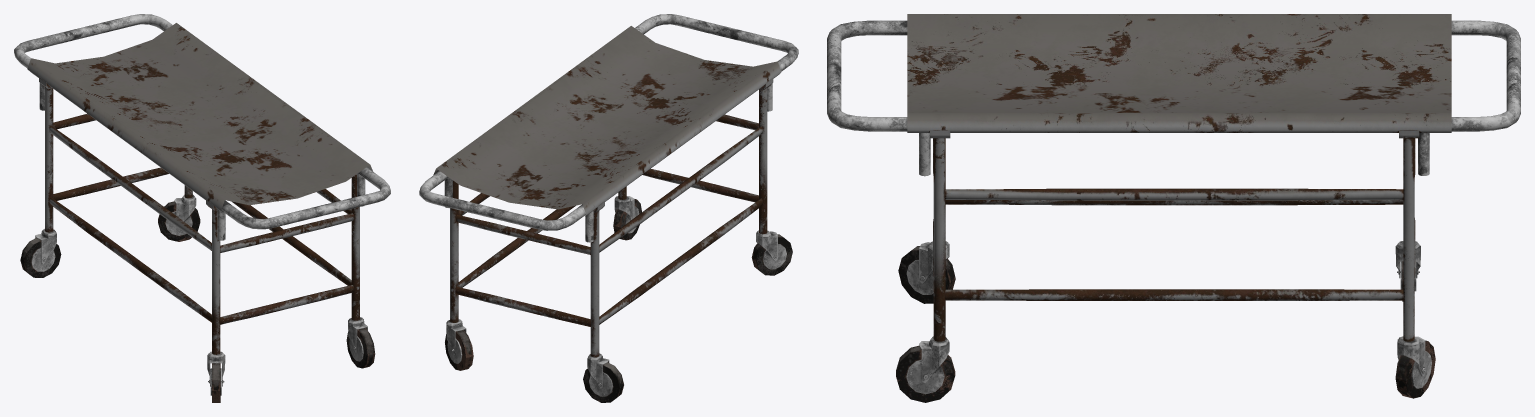
Rendered from uploads_files_4296316_Strecher_LP_With_Tex.fbx.
The picture shows the model from 3 angles, left to right: view 1: azimuth 30°, elevation 25°; view 2: azimuth 150°, elevation 25°; view 3: azimuth 270°, elevation 25°; orthographic projection. The views are drawn at different scales.
Visible parts, largest first — view 1: polySurface132, polySurface112, polySurface87, polySurface113, polySurface95, polySurface124, polySurface104, polySurface127, polySurface110, polySurface123, polySurface88, polySurface133 (+7 smaller); view 2: polySurface132, polySurface112, polySurface87, polySurface113, polySurface95, polySurface127, polySurface115, polySurface88, polySurface103, polySurface104, polySurface123, polySurface133 (+8 smaller); view 3: polySurface132, polySurface112, polySurface91, polySurface123, polySurface110, polySurface87, polySurface103, polySurface120, polySurface94, polySurface99, polySurface97, polySurface134.
Part boxes in pixels (box(x1,y1,x2,y2)): polySurface132: box(27, 23, 372, 212); polySurface112: box(14, 14, 390, 229); polySurface87: box(49, 197, 211, 322); polySurface113: box(49, 125, 211, 250); polySurface95: box(45, 87, 53, 232); polySurface124: box(220, 213, 354, 252); polySurface104: box(220, 285, 354, 324); polySurface127: box(212, 209, 220, 354); polySurface110: box(351, 176, 359, 320); polySurface123: box(232, 201, 351, 285); polySurface88: box(53, 167, 168, 200); polySurface133: box(20, 238, 61, 277); polySurface132: box(433, 26, 781, 216); polySurface112: box(419, 14, 798, 230); polySurface87: box(599, 198, 762, 324); polySurface113: box(599, 126, 762, 252); polySurface95: box(590, 211, 599, 357); polySurface127: box(759, 88, 767, 234); polySurface115: box(456, 214, 590, 254); polySurface88: box(456, 287, 590, 326); polySurface103: box(450, 180, 458, 322); polySurface104: box(642, 169, 758, 202); polySurface123: box(458, 205, 575, 287); polySurface133: box(583, 362, 623, 402); polySurface132: box(907, 14, 1451, 132); polySurface112: box(827, 20, 1520, 131); polySurface91: box(945, 188, 1403, 200); polySurface123: box(945, 289, 1403, 300); polySurface110: box(933, 138, 945, 341); polySurface87: box(945, 200, 1403, 205); polySurface103: box(1403, 138, 1414, 341); polySurface120: box(896, 345, 955, 402); polySurface94: box(1395, 340, 1435, 398); polySurface99: box(898, 246, 955, 303); polySurface97: box(906, 359, 944, 394); polySurface134: box(919, 340, 949, 383).
Size of the model in its own units: 1.86 by 2.07 by 4.51.
Materials: 1 (1 with a texture image).
